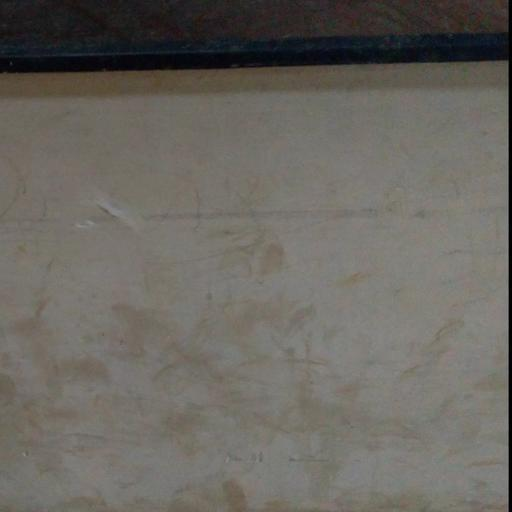stain: (7, 133, 512, 512)
